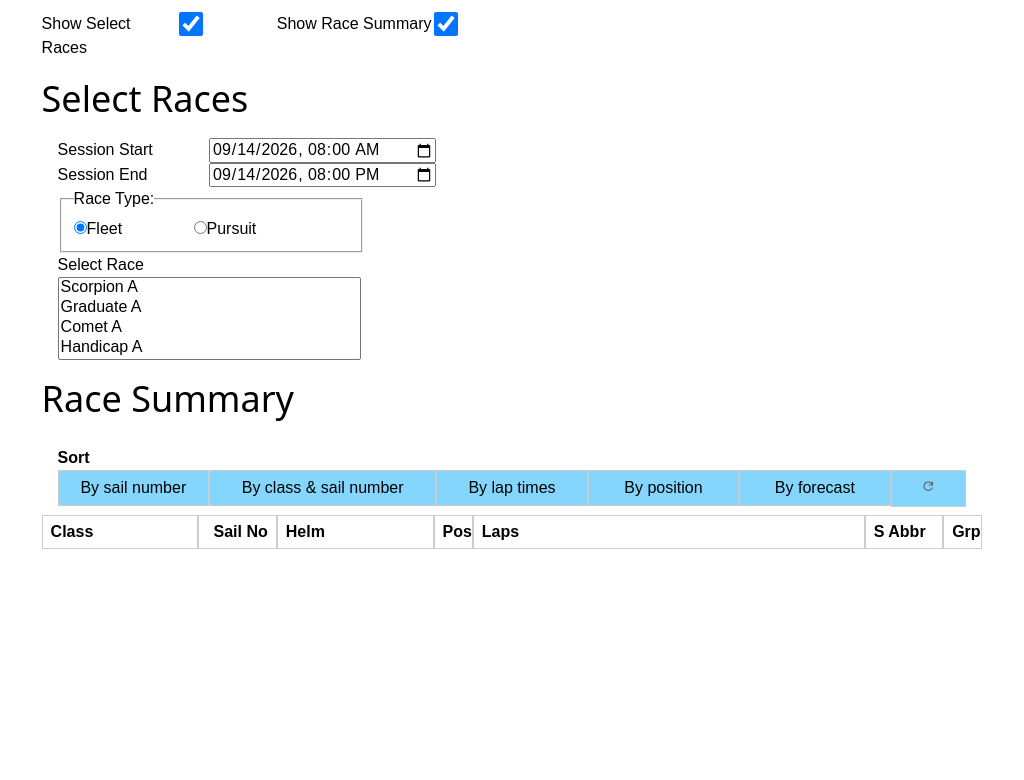
Scenario: when more than one race is selected › shows the duration of the selected races
Select "Scorpion A, Graduate A" in the dropdown labelled "Select Race" at (209,318), box [58,277,360,360]
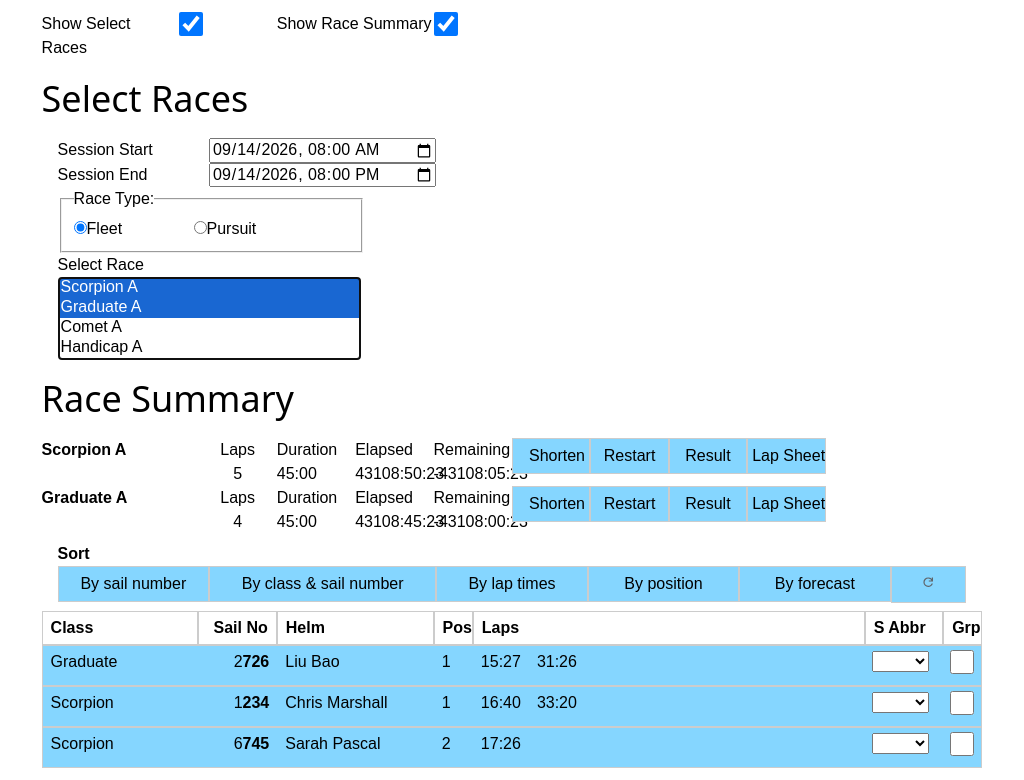
Expected: the number of elements named "duration" is 2, [277,465,317,482]; [277,513,317,530]
Expected: the text named "duration" holds "45:00", [277,465,317,482]
